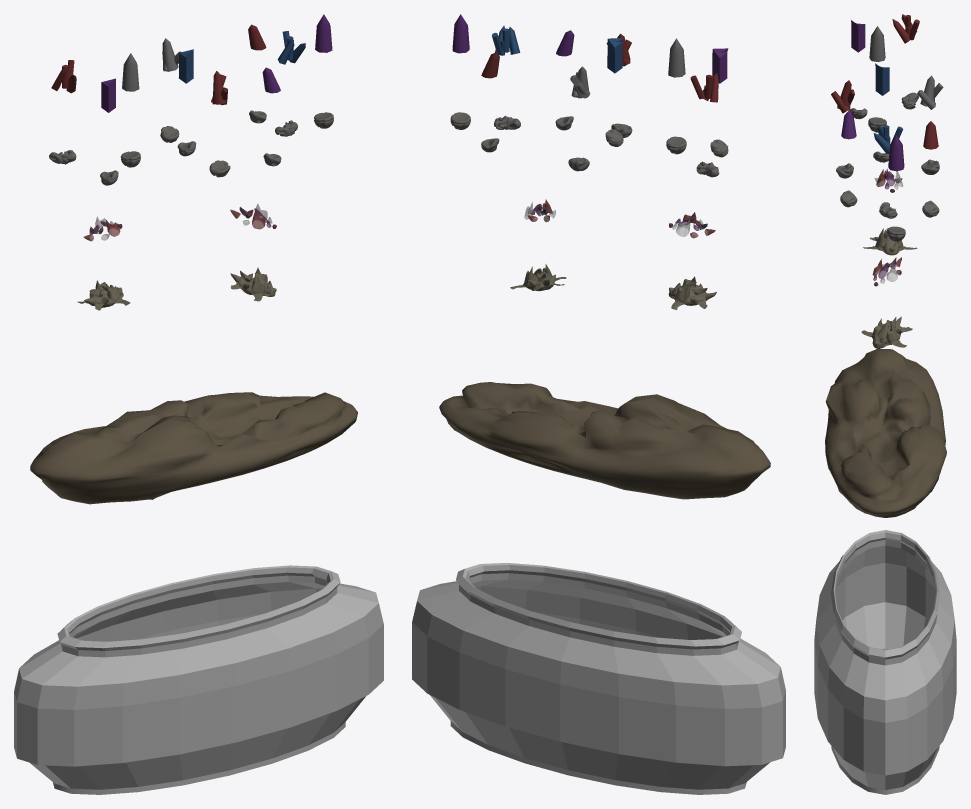
Rendered from Fish Tank Spread for Painting.fbx.
3 views of the same model, side by side, from view 1: azimuth 30°, elevation 25°; view 2: azimuth 150°, elevation 25°; view 3: azimuth 270°, elevation 25° (orthographic). The views are drawn at different scales.
Parts seen in each view (by area): view 1: pCylinder1, Rock_fish_Retopoed:Dirt, Gem_Fish_W_Covers:Fish1, Fish1; view 2: pCylinder1, Rock_fish_Retopoed:Dirt, Fish1, Gem_Fish_W_Covers:Fish1; view 3: pCylinder1, Rock_fish_Retopoed:Dirt, Gem_Fish_W_Covers:Fish1, Fish1, Gem_Fish_W_Covers:Purple_Fish_Gems1, I_Gem:Gem, Gem1, III_gem1:Gem3, IV_gem1:Gem4, Gem3, Gem5, I_Tri_Gem1:Gem (+4 smaller).
Part boxes in pixels (box(x1,y1,x2,y2)): pCylinder1: box(14, 565, 383, 794); Rock_fish_Retopoed:Dirt: box(30, 392, 357, 504); Gem_Fish_W_Covers:Fish1: box(230, 267, 276, 301); Fish1: box(77, 280, 130, 310); pCylinder1: box(412, 563, 785, 794); Rock_fish_Retopoed:Dirt: box(439, 382, 770, 499); Fish1: box(668, 276, 716, 309); Gem_Fish_W_Covers:Fish1: box(510, 264, 566, 291); pCylinder1: box(814, 530, 956, 794); Rock_fish_Retopoed:Dirt: box(825, 348, 946, 517); Gem_Fish_W_Covers:Fish1: box(861, 316, 912, 348); Fish1: box(863, 228, 917, 255); Gem_Fish_W_Covers:Purple_Fish_Gems1: box(872, 257, 901, 286); I_Gem:Gem: box(888, 135, 904, 171); Gem1: box(869, 26, 885, 61); III_gem1:Gem3: box(917, 75, 943, 109); IV_gem1:Gem4: box(892, 14, 919, 43); Gem3: box(831, 80, 854, 113); Gem5: box(873, 125, 903, 153); I_Tri_Gem1:Gem: box(851, 20, 865, 52).
Size of the model in its own units: 19.08 by 36.13 by 6.95.
